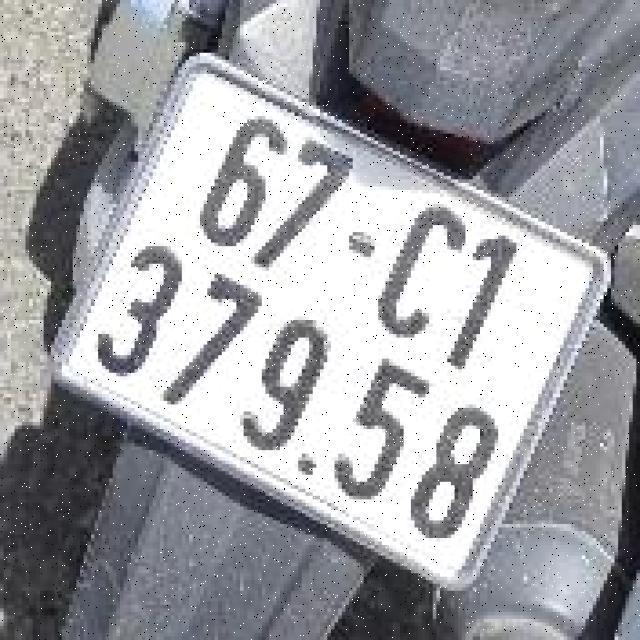1: (424, 222, 524, 381)
3: (81, 231, 198, 392)
5: (314, 347, 441, 521)
6: (179, 104, 302, 265)
7: (150, 264, 273, 431), (237, 126, 363, 289)
8: (397, 395, 516, 556)
9: (227, 304, 348, 467)
C: (359, 192, 484, 356)
